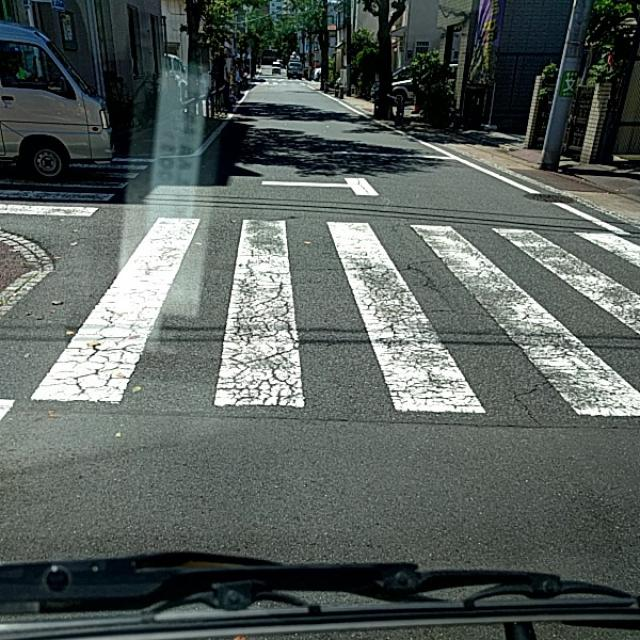pothole: (250, 285, 314, 406)
